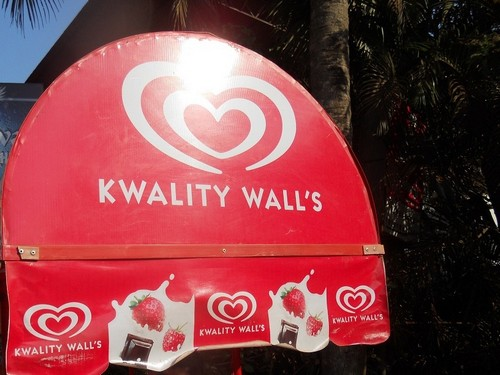Kwality_Walls: (117, 52, 302, 179), (18, 300, 96, 348), (329, 277, 388, 323), (197, 286, 260, 326)
